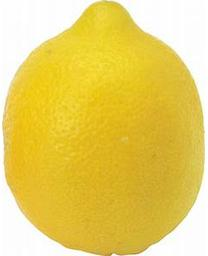lemon: (4, 0, 203, 255)
